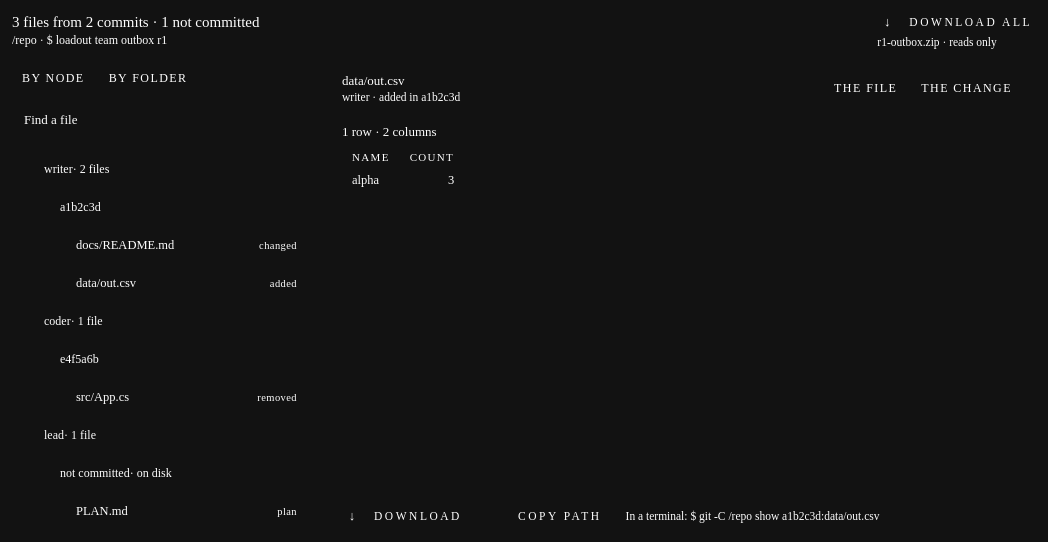
Outbox › shows a CSV as a table and a removed file as it was before
Expected: the cell "alpha" is shown, [342,168,400,193]
Click the element showing "src/App.cs removed" at x=103, y=396, box [76,390,297,404]
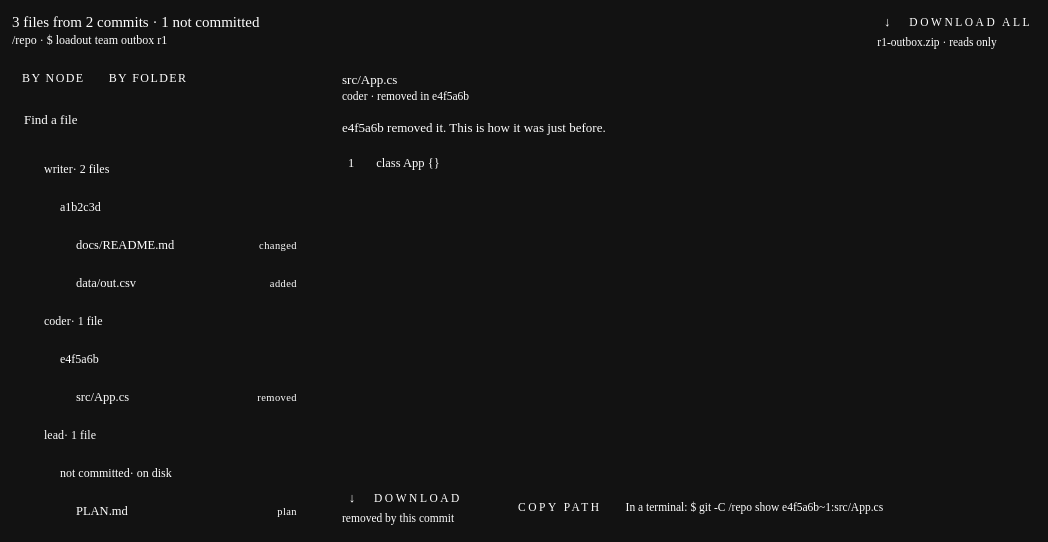
Expected: the text "e4f5a6b removed it. This is how it was just before." is shown, [342,120,606,135]
Expected: the text "In a terminal: $ git -C /repo show e4f5a6b~1:src/App.cs" is shown, [626,501,883,513]
